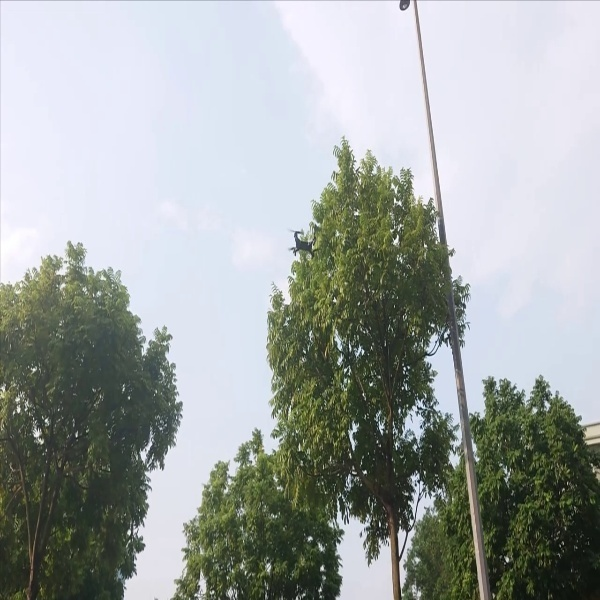drone: (283, 225, 323, 258)
